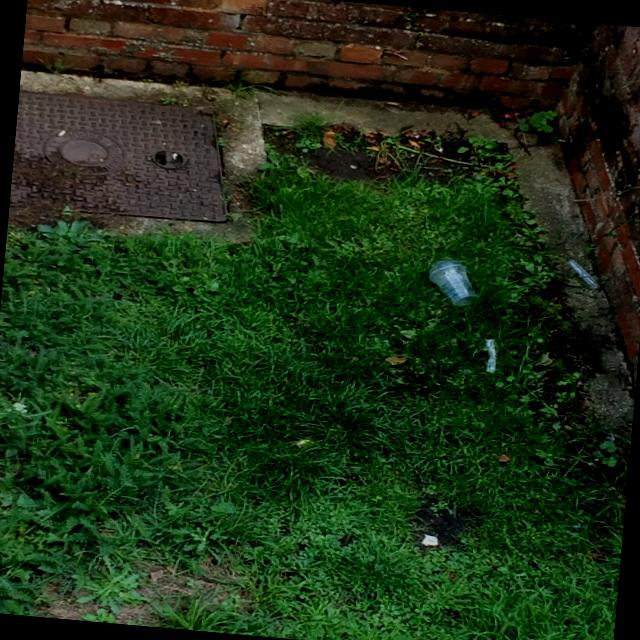Recycle: (428, 256, 487, 310)
Trash: (562, 250, 606, 288), (479, 335, 504, 375)
